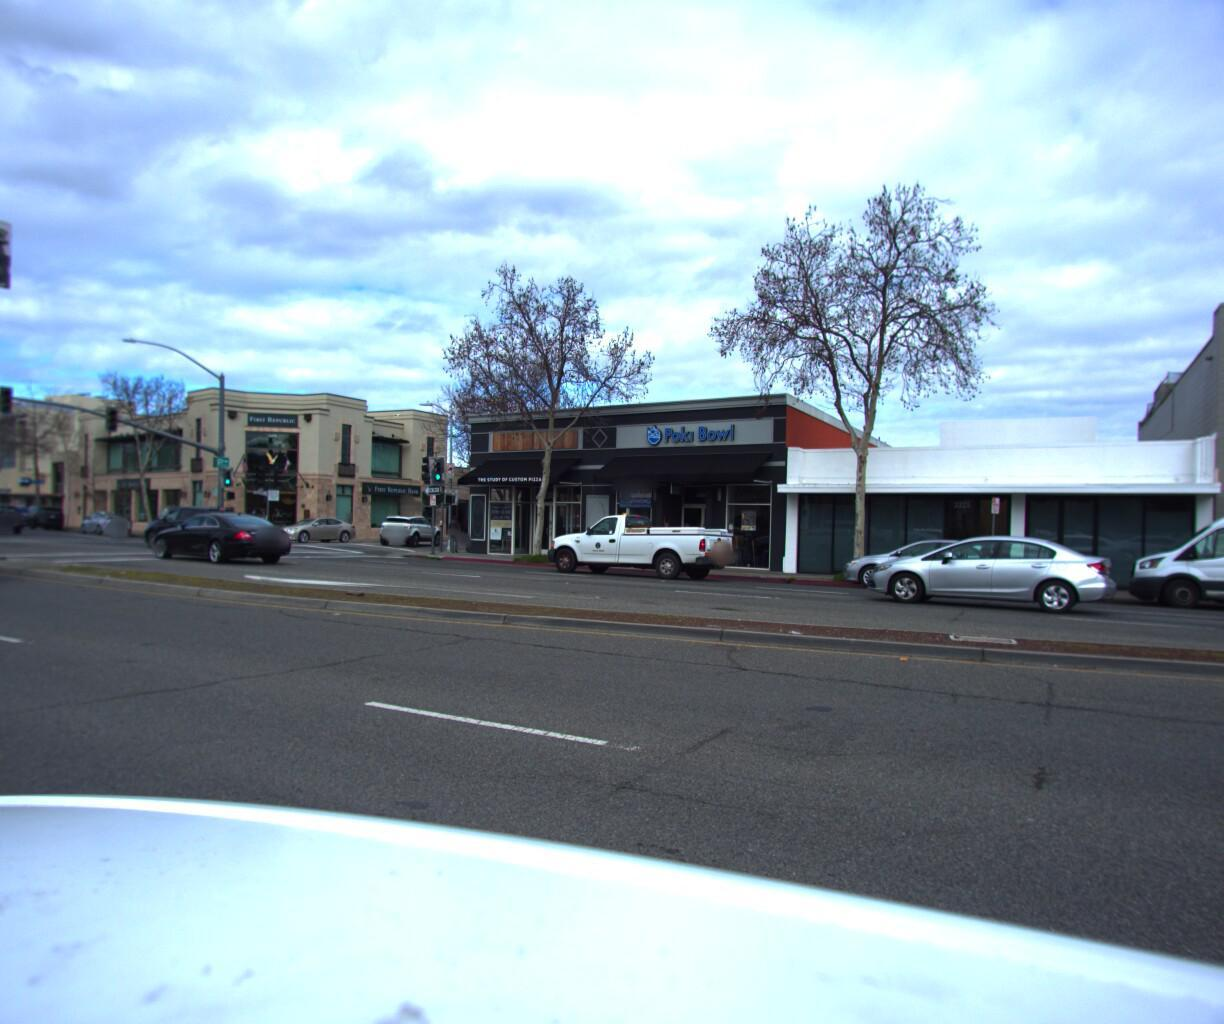car: (859, 521, 1133, 617), (542, 504, 751, 579), (1118, 483, 1224, 627), (824, 529, 1041, 598), (143, 506, 304, 562), (135, 498, 255, 548), (255, 510, 359, 541), (371, 507, 446, 542), (0, 476, 16, 591), (66, 505, 133, 532), (5, 499, 67, 528), (0, 497, 35, 529), (0, 490, 1, 532)
